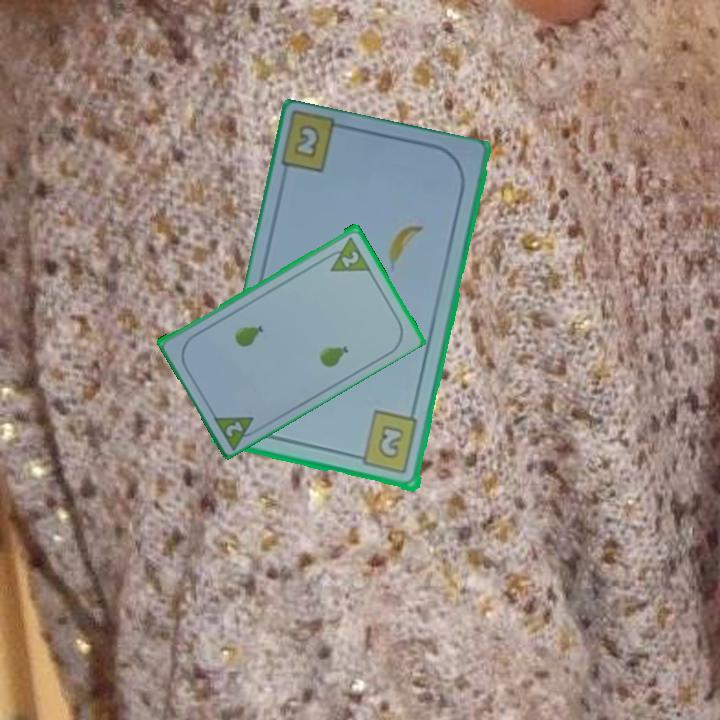2b: (351, 408, 421, 477), (293, 124, 321, 158)
2p: (337, 247, 362, 270), (222, 417, 246, 439)
